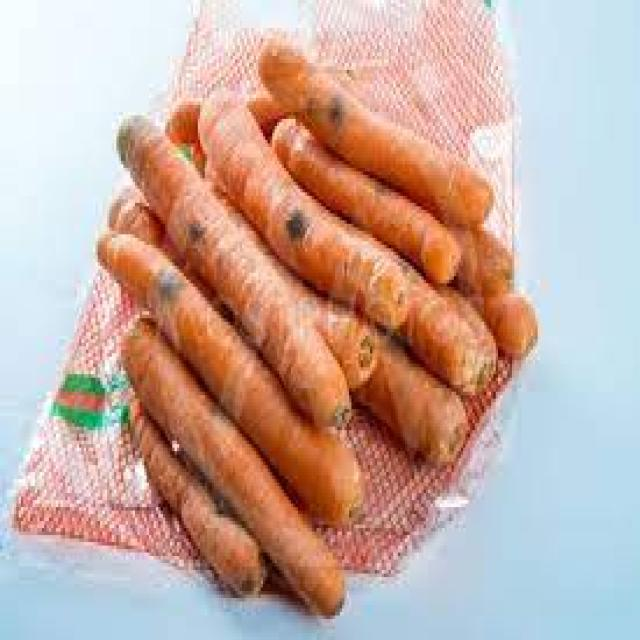Stale_Carrot: (100, 233, 364, 523), (119, 116, 351, 425), (124, 321, 345, 613), (199, 92, 411, 330), (259, 39, 494, 226), (273, 118, 461, 283), (130, 398, 263, 595), (354, 332, 466, 465), (400, 272, 494, 394)
